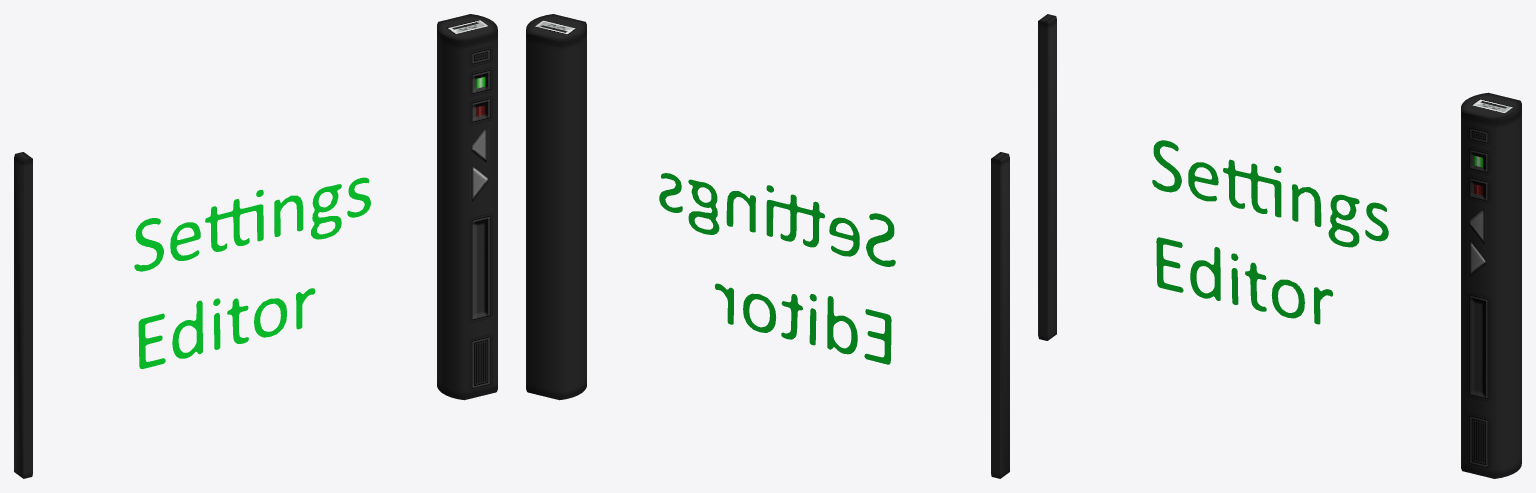
File: settings_editor.obj
3 views of the same model, side by side, from view 1: azimuth 30°, elevation 25°; view 2: azimuth 150°, elevation 25°; view 3: azimuth 330°, elevation 25° (orthographic).
Visible parts, largest first — view 1: linking_card; view 2: linking_card; view 3: linking_card.
Boxes of the visible parts, bbox=[...] form: linking_card: bbox=[14, 14, 497, 478]; linking_card: bbox=[526, 14, 1009, 478]; linking_card: bbox=[1038, 14, 1521, 478].
Bounding box in the file's own units: 0.4437 × 0.32 × 0.0424.
